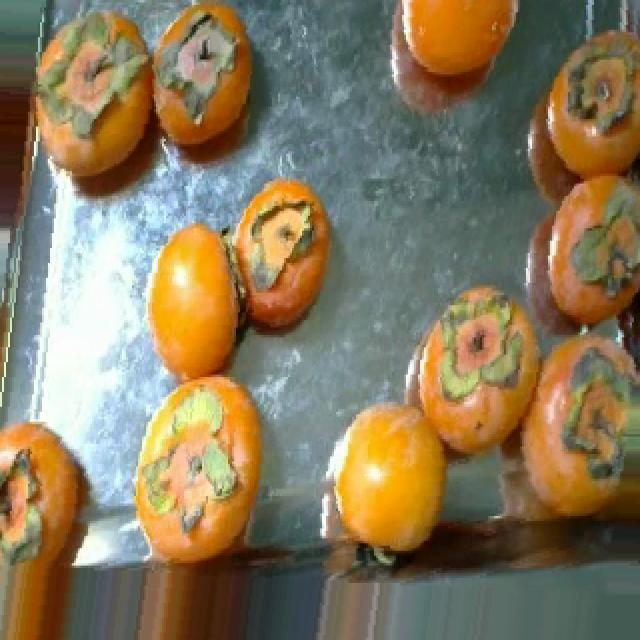Fruit: (316, 380, 474, 586), (130, 206, 252, 409), (366, 0, 544, 136), (238, 164, 350, 352), (434, 270, 534, 392)
